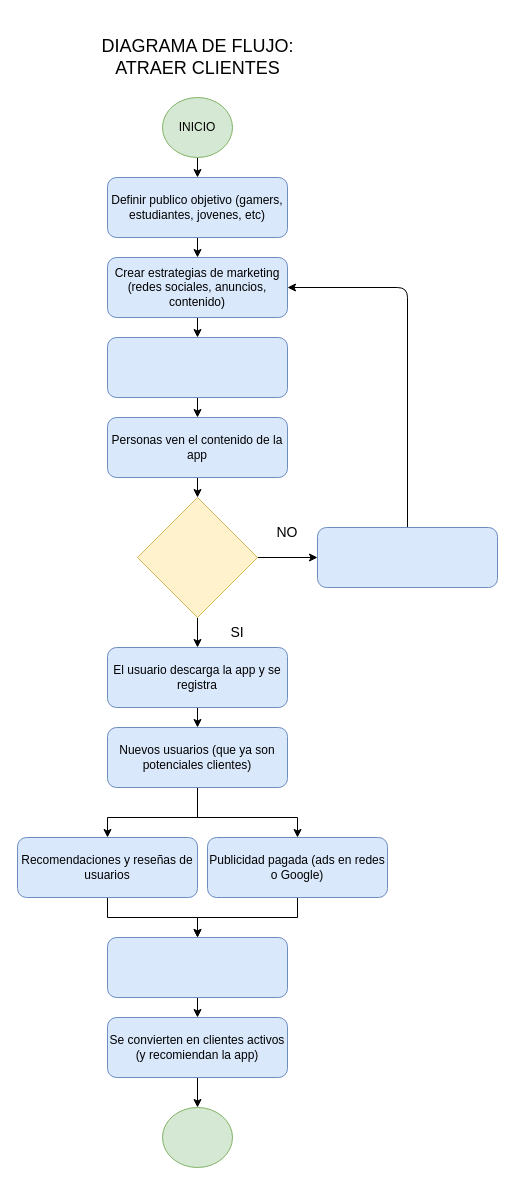
Some shapes in this 515 by 1185 pixel diagram are drawn without their labels. The centre of each missing label's shape, as x and y in pixels:
"FIN" belongs at (x=197, y=1137).
"Los usuarios comienzan a rentar y a usar la app" belongs at (x=197, y=967).
"Publicar contenido en redes sociales (Tik Tok, Instagram, X, etc." belongs at (x=197, y=367).
"Seguir generando contenido y optimizando las estrategias" belongs at (x=407, y=557).
"¿Les interesa?" belongs at (x=197, y=557).
